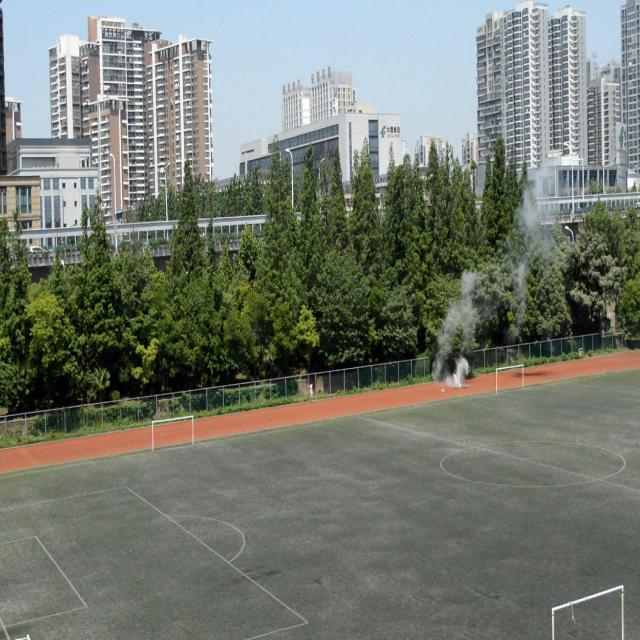smoke: (512, 168, 558, 310), (429, 270, 478, 387)
